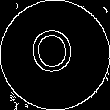O_S: (30, 26, 80, 84)
